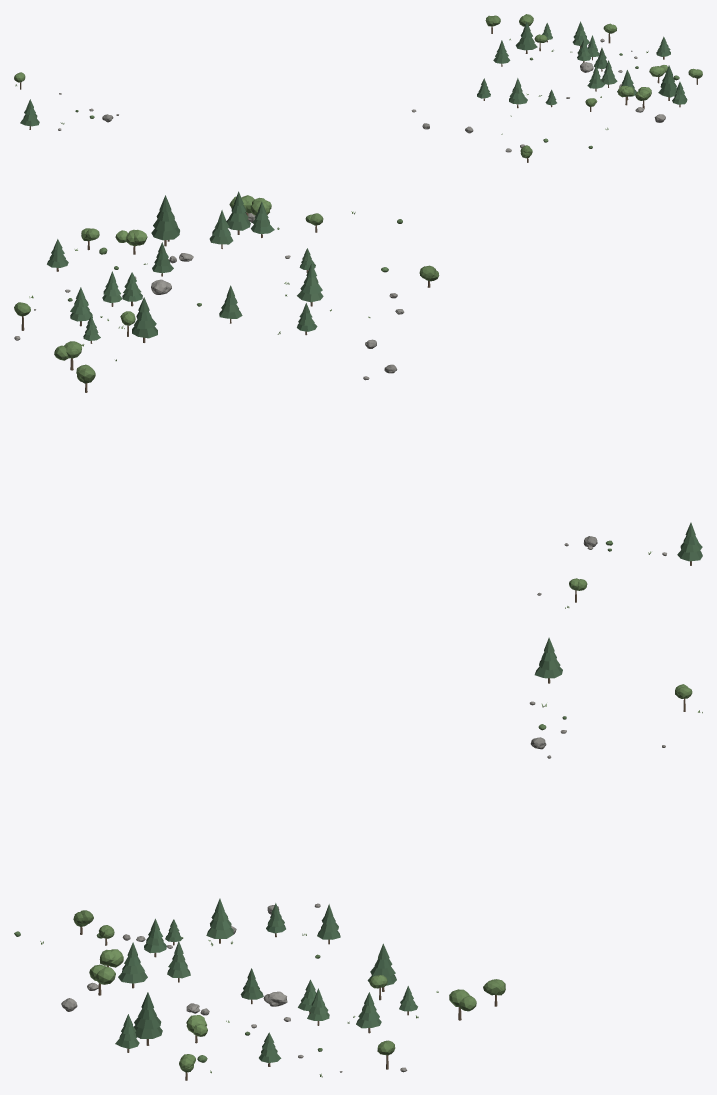
The model's file is arch_land_scatter_c19_18.glb.
3 views of the same model, one above another, from view 1: azimuth 30°, elevation 25°; view 2: azimuth 150°, elevation 25°; view 3: azimuth 270°, elevation 25° (orthographic). The views are drawn at different scales.
Parts seen in each view (by area): view 1: arch_land_scatter_c19_18; view 2: arch_land_scatter_c19_18; view 3: arch_land_scatter_c19_18.
Part boxes in pixels (bbox=[...]): arch_land_scatter_c19_18: bbox=[14, 14, 702, 162]; arch_land_scatter_c19_18: bbox=[14, 191, 702, 608]; arch_land_scatter_c19_18: bbox=[14, 637, 702, 1080].
Bounding box in the file's own units: 247 × 27.15 × 176.
